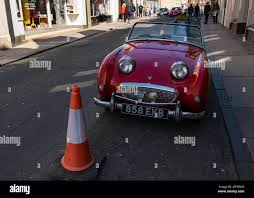car: (94, 20, 216, 121)
cone: (48, 85, 107, 181)
